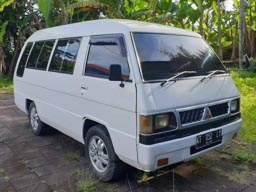plat: (195, 130, 221, 145)
